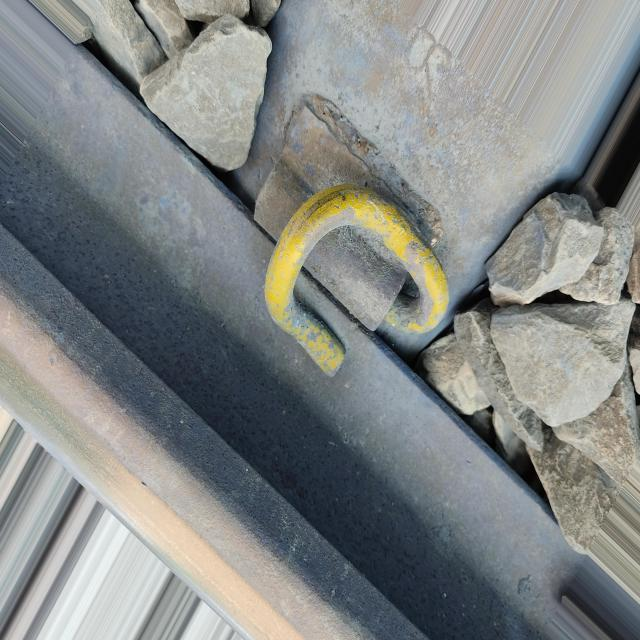squats_high: (48, 352, 59, 366), (140, 479, 149, 488)
